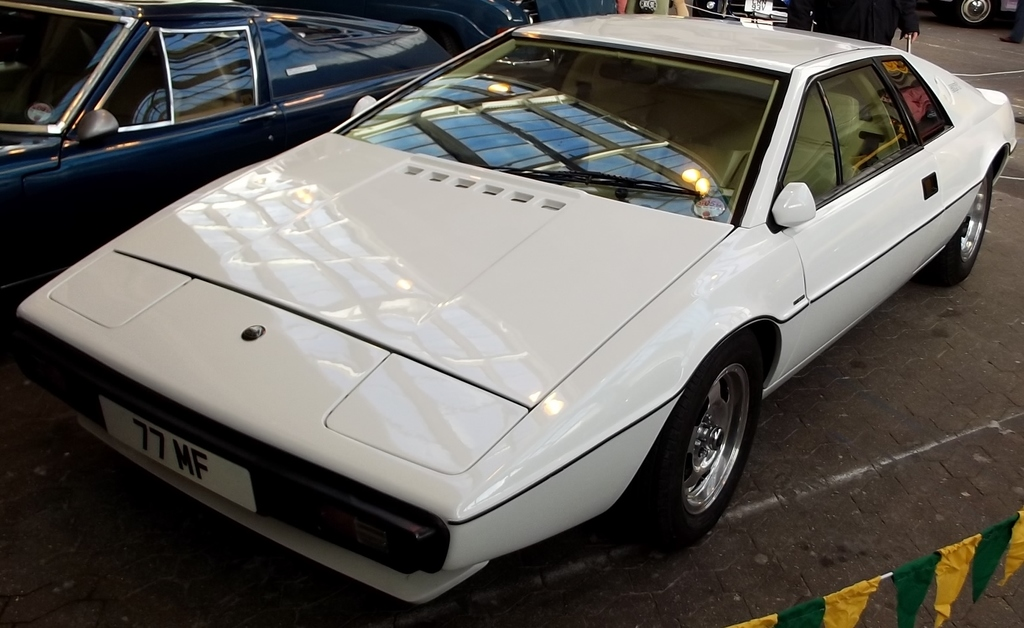person: (785, 0, 921, 47)
